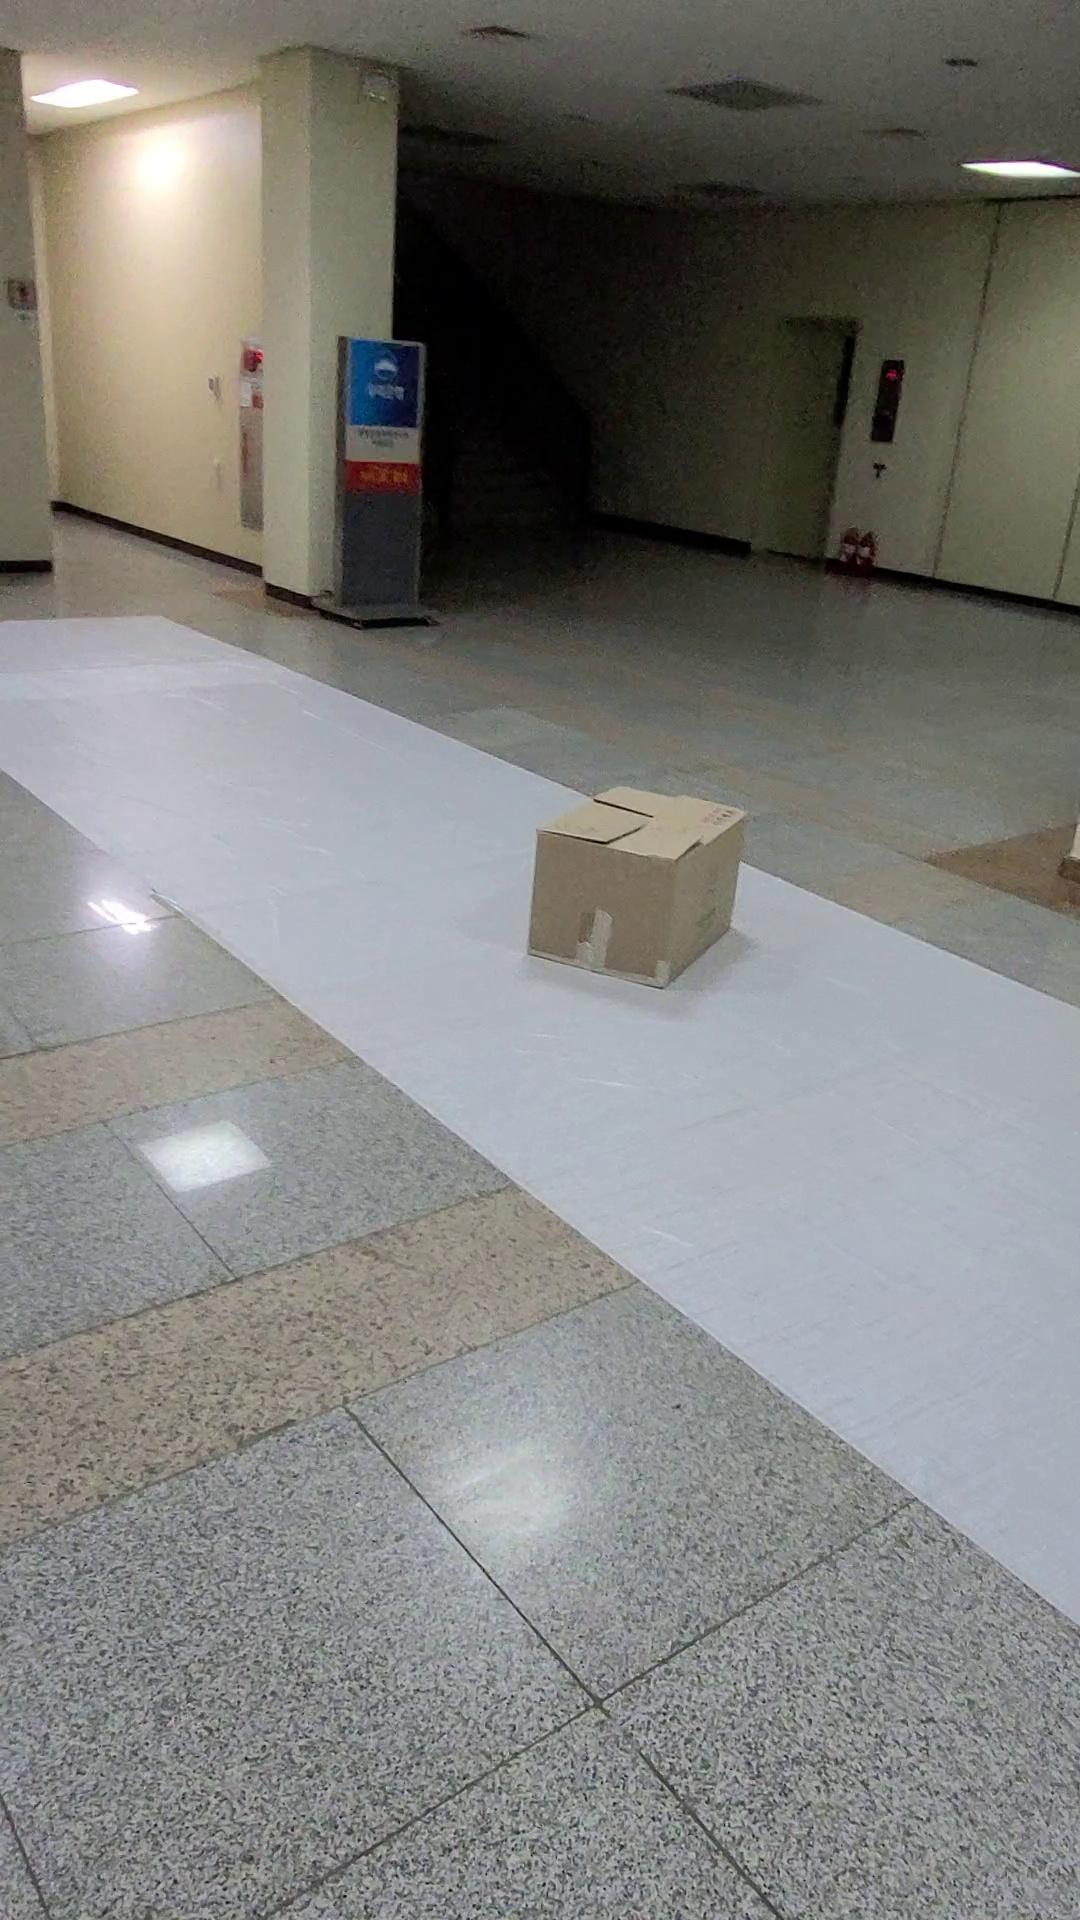Box: (526, 765, 765, 1000)
